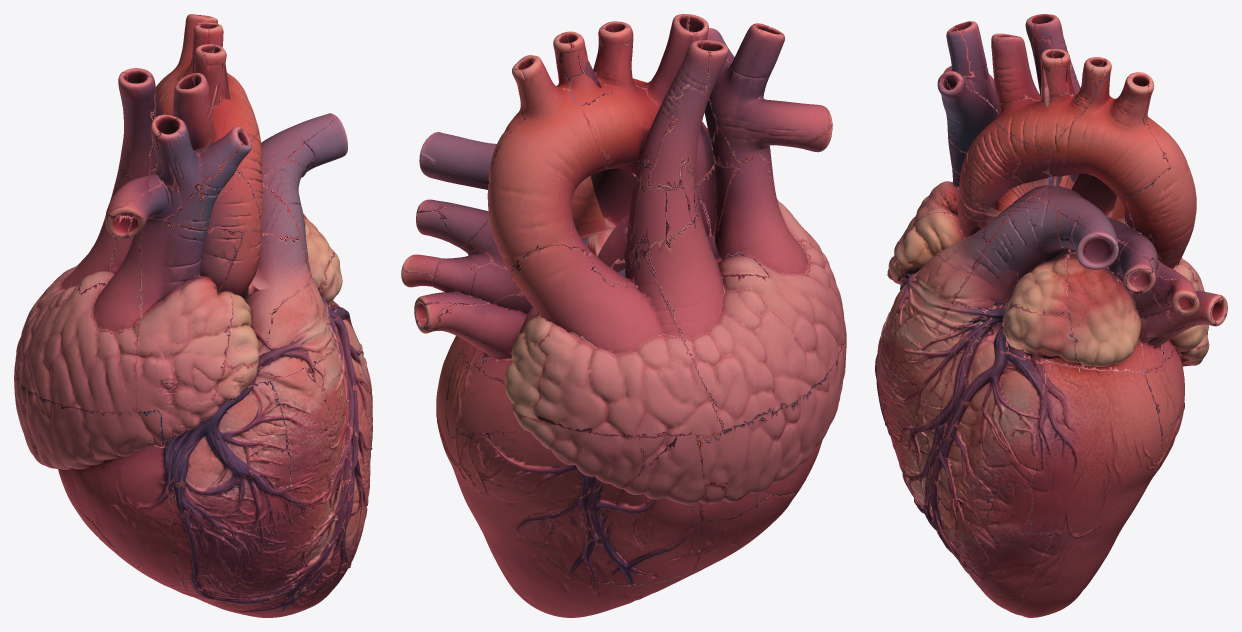
The model's file is organ-heart.glb.
3 views of the same model, side by side, from view 1: azimuth 30°, elevation 25°; view 2: azimuth 150°, elevation 25°; view 3: azimuth 270°, elevation 25° (orthographic). The views are drawn at different scales.
Parts seen in each view (by area): view 1: leftAtrium, leftVentricle, rightVentricle, rightAtrium; view 2: leftAtrium, leftVentricle, rightAtrium, rightVentricle; view 3: rightVentricle, rightAtrium, leftAtrium, leftVentricle.
Part boxes in pixels (left/top/right/bottom): leftAtrium: left=31, top=42, right=297, bottom=388; leftVentricle: left=14, top=283, right=310, bottom=614; rightVentricle: left=241, top=296, right=372, bottom=617; rightAtrium: left=166, top=14, right=347, bottom=361; leftAtrium: left=528, top=14, right=840, bottom=373; leftVentricle: left=521, top=295, right=846, bottom=609; rightAtrium: left=401, top=21, right=613, bottom=355; rightVentricle: left=436, top=335, right=611, bottom=617; rightVentricle: left=880, top=298, right=1206, bottom=617; rightAtrium: left=901, top=57, right=1227, bottom=348; leftAtrium: left=888, top=14, right=1200, bottom=293; leftVentricle: left=875, top=257, right=1209, bottom=500.
Bounding box in the file's own units: 0.5968 × 0.9806 × 0.5847.
1 material, 1 textured.
